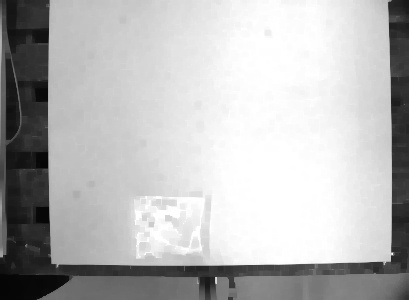t3: (130, 192, 213, 262)
